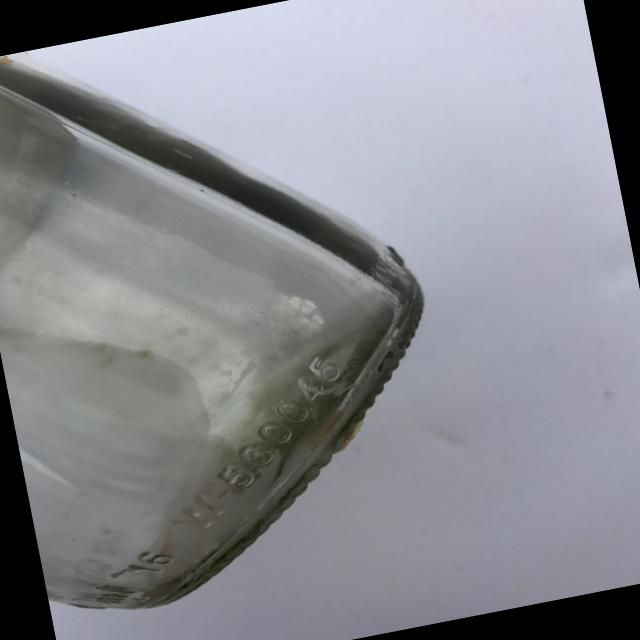Glass: (0, 0, 488, 634)
